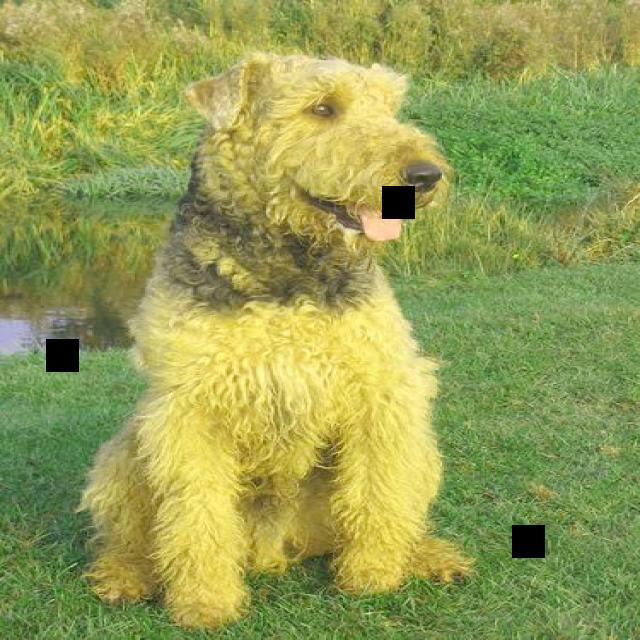adult_dog: (77, 47, 474, 624)
